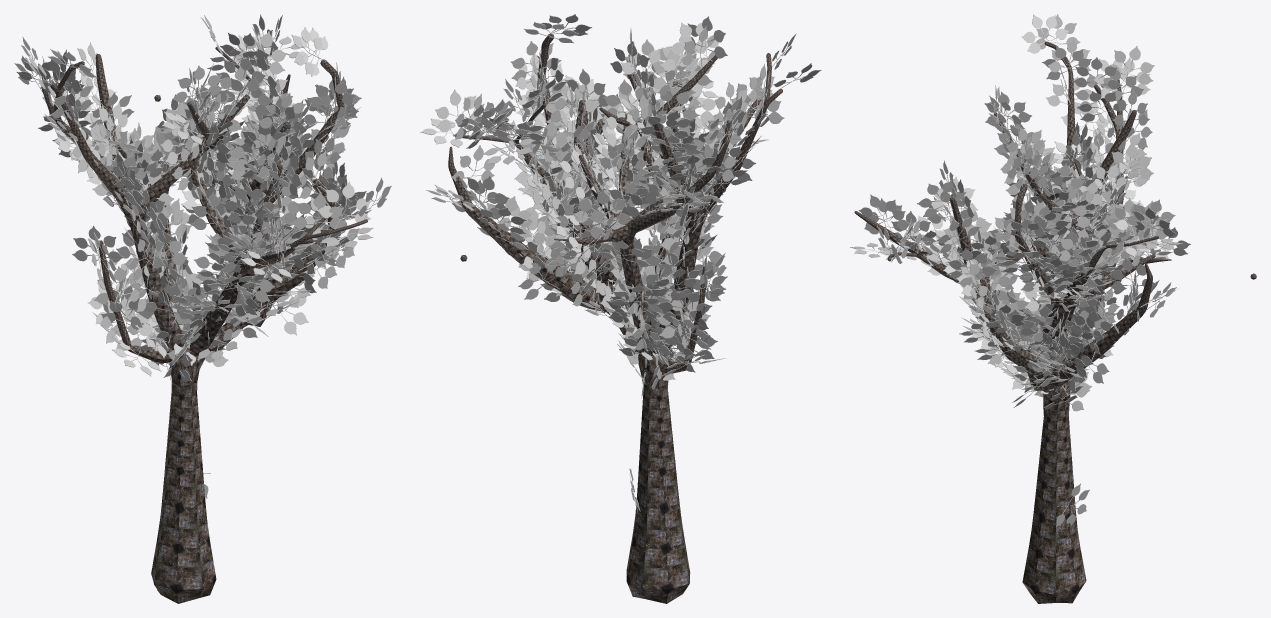
File: Baum2.fbx
The picture shows the model from 3 angles, left to right: view 1: azimuth 30°, elevation 25°; view 2: azimuth 150°, elevation 25°; view 3: azimuth 270°, elevation 25°; orthographic projection. The views are drawn at different scales.
Visible parts, largest first — view 1: tree, tree|leaf|Dupli|170.0.0.0.0.0.0.0.0.0, tree|leaf|Dupli|171.0.0.0.0.0.0.0.0.0, tree|leaf|Dupli|471.0.0.0.0.0.0.0.0.0, tree|leaf|Dupli|462.0.0.0.0.0.0.0.0.0, tree|leaf|Dupli|303.0.0.0.0.0.0.0.0.0, tree|leaf|Dupli|432.0.0.0.0.0.0.0.0.0, tree|leaf|Dupli|260.0.0.0.0.0.0.0.0.0, tree|leaf|Dupli|464.0.0.0.0.0.0.0.0.0, tree|leaf|Dupli|286.0.0.0.0.0.0.0.0.0, tree|leaf|Dupli|283.0.0.0.0.0.0.0.0.0, tree|leaf|Dupli|408.0.0.0.0.0.0.0.0.0 (+5 smaller); view 2: tree, tree|leaf|Dupli|249.0.0.0.0.0.0.0.0.0, tree|leaf|Dupli|222.0.0.0.0.0.0.0.0.0, tree|leaf|Dupli|324.0.0.0.0.0.0.0.0.0, tree|leaf|Dupli|301.0.0.0.0.0.0.0.0.0, tree|leaf|Dupli|267.0.0.0.0.0.0.0.0.0, tree|leaf|Dupli|468.0.0.0.0.0.0.0.0.0, tree|leaf|Dupli|50.0.0.0.0.0.0.0.0.0, tree|leaf|Dupli|472.0.0.0.0.0.0.0.0.0, tree|leaf|Dupli|489.0.0.0.0.0.0.0.0.0, tree|leaf|Dupli|338.0.0.0.0.0.0.0.0.0, tree|leaf|Dupli|245.0.0.0.0.0.0.0.0.0 (+7 smaller); view 3: tree, tree|leaf|Dupli|223.0.0.0.0.0.0.0.0.0, tree|leaf|Dupli|495.0.0.0.0.0.0.0.0.0, tree|leaf|Dupli|499.0.0.0.0.0.0.0.0.0, tree|leaf|Dupli|439.0.0.0.0.0.0.0.0.0, tree|leaf|Dupli|394.0.0.0.0.0.0.0.0.0, tree|leaf|Dupli|210.0.0.0.0.0.0.0.0.0, tree|leaf|Dupli|395.0.0.0.0.0.0.0.0.0, tree|leaf|Dupli|392.0.0.0.0.0.0.0.0.0, tree|leaf|Dupli|109.0.0.0.0.0.0.0.0.0, tree|leaf|Dupli|362.0.0.0.0.0.0.0.0.0.
Boxes of the visible parts, x1,y1,x2,y2 form: tree: (42,47,367,603); tree|leaf|Dupli|170.0.0.0.0.0.0.0.0.0: (290,193,345,234); tree|leaf|Dupli|171.0.0.0.0.0.0.0.0.0: (316,181,371,229); tree|leaf|Dupli|471.0.0.0.0.0.0.0.0.0: (172,65,223,104); tree|leaf|Dupli|462.0.0.0.0.0.0.0.0.0: (226,77,272,115); tree|leaf|Dupli|303.0.0.0.0.0.0.0.0.0: (72,225,123,271); tree|leaf|Dupli|432.0.0.0.0.0.0.0.0.0: (221,186,276,222); tree|leaf|Dupli|260.0.0.0.0.0.0.0.0.0: (235,31,287,74); tree|leaf|Dupli|464.0.0.0.0.0.0.0.0.0: (216,56,265,101); tree|leaf|Dupli|286.0.0.0.0.0.0.0.0.0: (291,27,326,74); tree|leaf|Dupli|283.0.0.0.0.0.0.0.0.0: (307,81,361,123); tree|leaf|Dupli|408.0.0.0.0.0.0.0.0.0: (92,102,127,150); tree: (448,33,782,603); tree|leaf|Dupli|249.0.0.0.0.0.0.0.0.0: (556,197,606,243); tree|leaf|Dupli|222.0.0.0.0.0.0.0.0.0: (639,110,693,144); tree|leaf|Dupli|324.0.0.0.0.0.0.0.0.0: (518,258,569,299); tree|leaf|Dupli|301.0.0.0.0.0.0.0.0.0: (656,289,712,322); tree|leaf|Dupli|267.0.0.0.0.0.0.0.0.0: (435,89,481,136); tree|leaf|Dupli|468.0.0.0.0.0.0.0.0.0: (649,51,700,96); tree|leaf|Dupli|50.0.0.0.0.0.0.0.0.0: (603,79,657,121); tree|leaf|Dupli|472.0.0.0.0.0.0.0.0.0: (669,22,718,66); tree|leaf|Dupli|489.0.0.0.0.0.0.0.0.0: (565,69,607,106); tree|leaf|Dupli|338.0.0.0.0.0.0.0.0.0: (451,145,494,188); tree|leaf|Dupli|245.0.0.0.0.0.0.0.0.0: (579,190,632,234); tree: (854,41,1256,603); tree|leaf|Dupli|223.0.0.0.0.0.0.0.0.0: (1021,14,1068,53); tree|leaf|Dupli|495.0.0.0.0.0.0.0.0.0: (1072,57,1122,90); tree|leaf|Dupli|499.0.0.0.0.0.0.0.0.0: (1109,46,1154,84); tree|leaf|Dupli|439.0.0.0.0.0.0.0.0.0: (917,180,966,217); tree|leaf|Dupli|394.0.0.0.0.0.0.0.0.0: (1085,163,1127,204); tree|leaf|Dupli|210.0.0.0.0.0.0.0.0.0: (858,194,905,230); tree|leaf|Dupli|395.0.0.0.0.0.0.0.0.0: (1106,143,1153,178); tree|leaf|Dupli|392.0.0.0.0.0.0.0.0.0: (1072,190,1122,227); tree|leaf|Dupli|109.0.0.0.0.0.0.0.0.0: (1042,46,1091,80); tree|leaf|Dupli|362.0.0.0.0.0.0.0.0.0: (947,248,996,284).
Bounding box in the file's own units: 452 × 383 × 651.
Materials: 6 (1 with a texture image).
